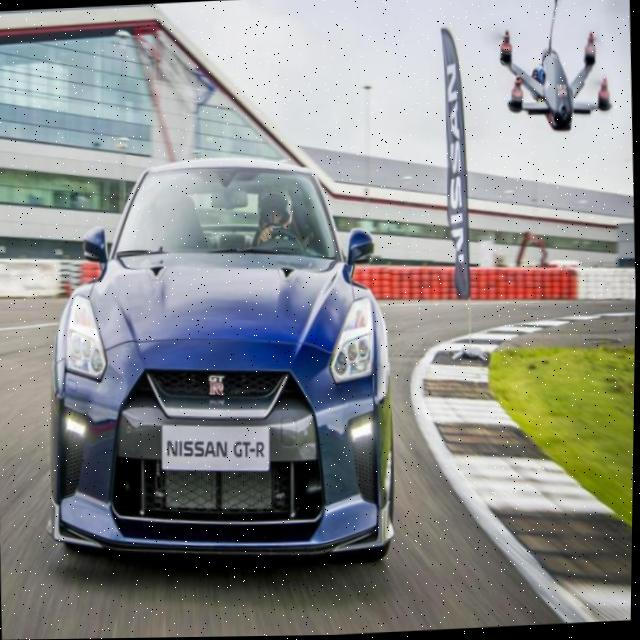drones: (479, 0, 621, 154)
